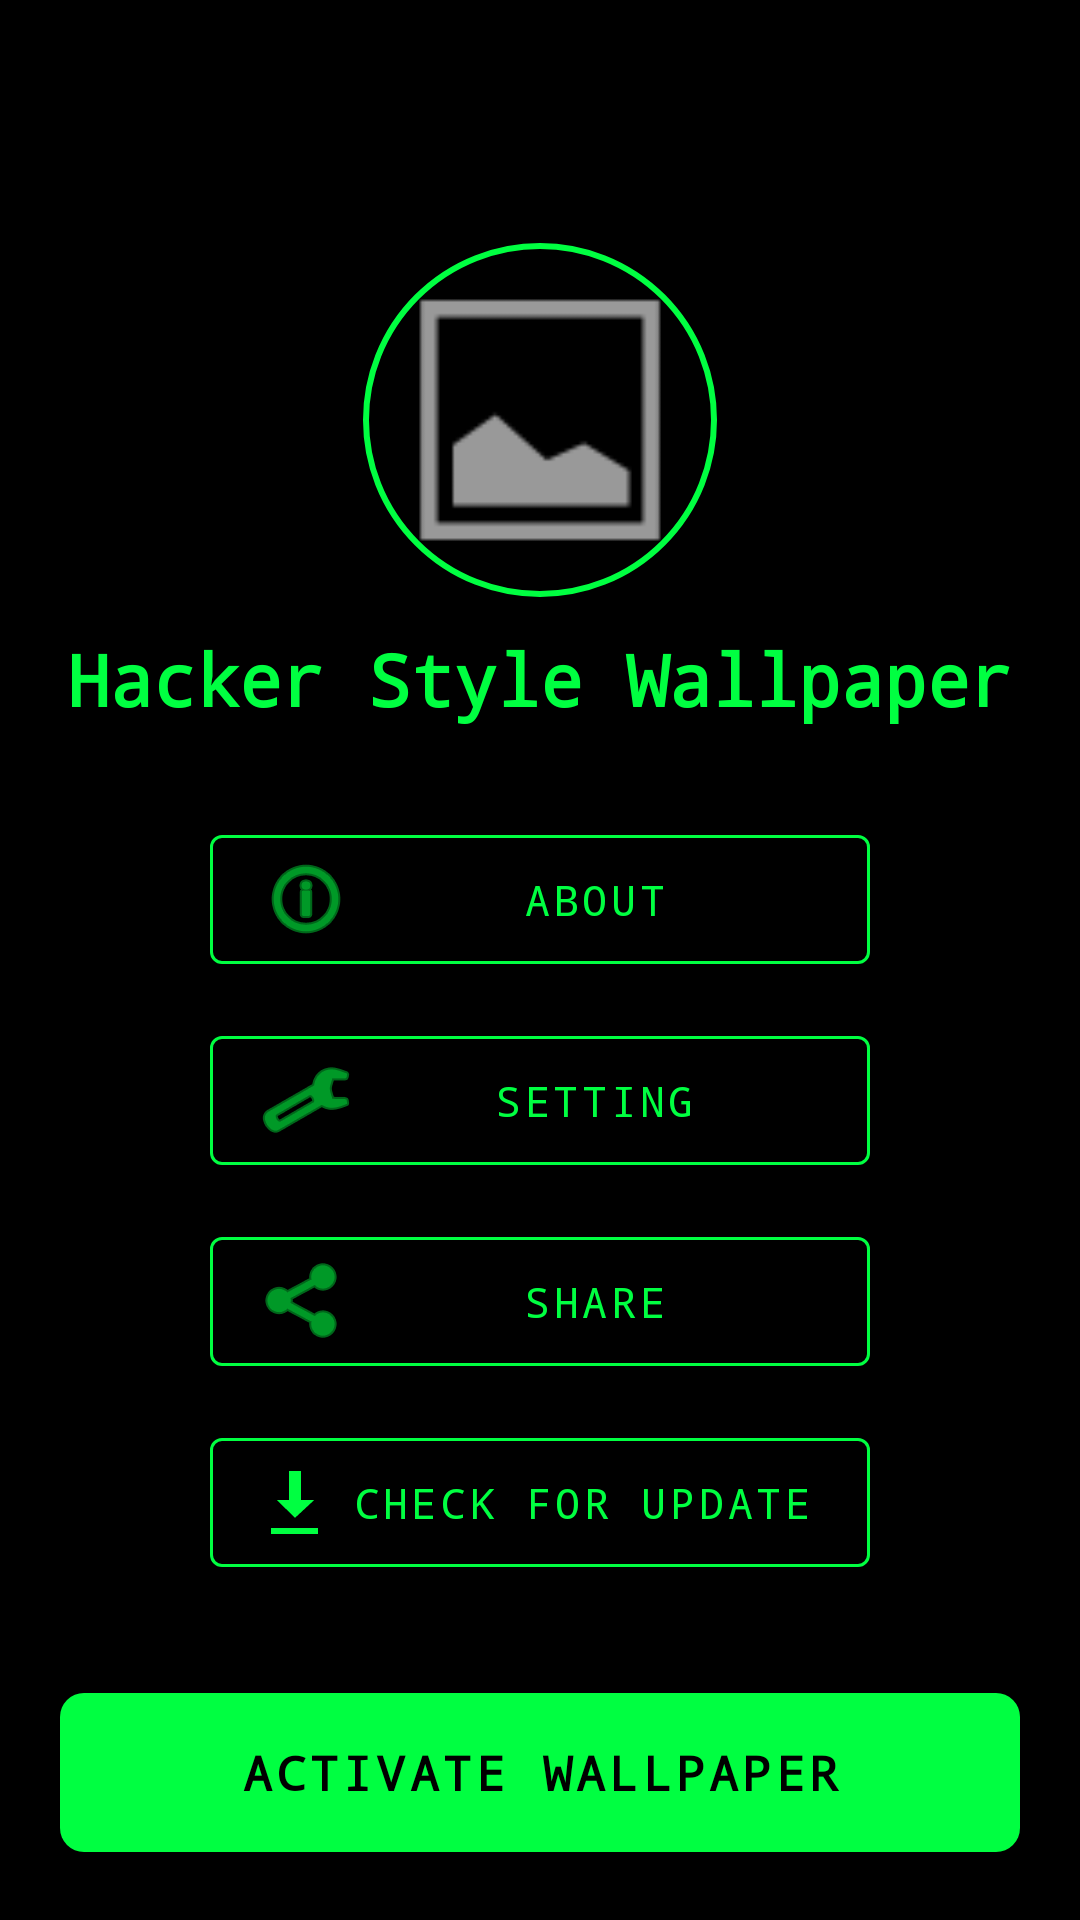

Where to tap for icons on this 1080 × 1920 app screen, as (x=x, y=y):
gallery: (x=540, y=420)
